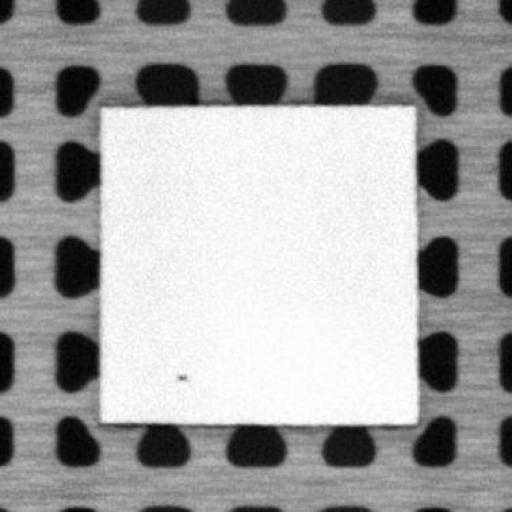DIE_INK: (172, 369, 188, 381)
